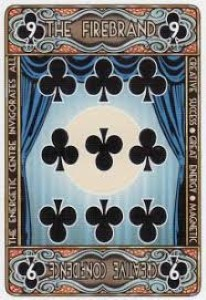NineOfClubs: (1, 2, 201, 298)
